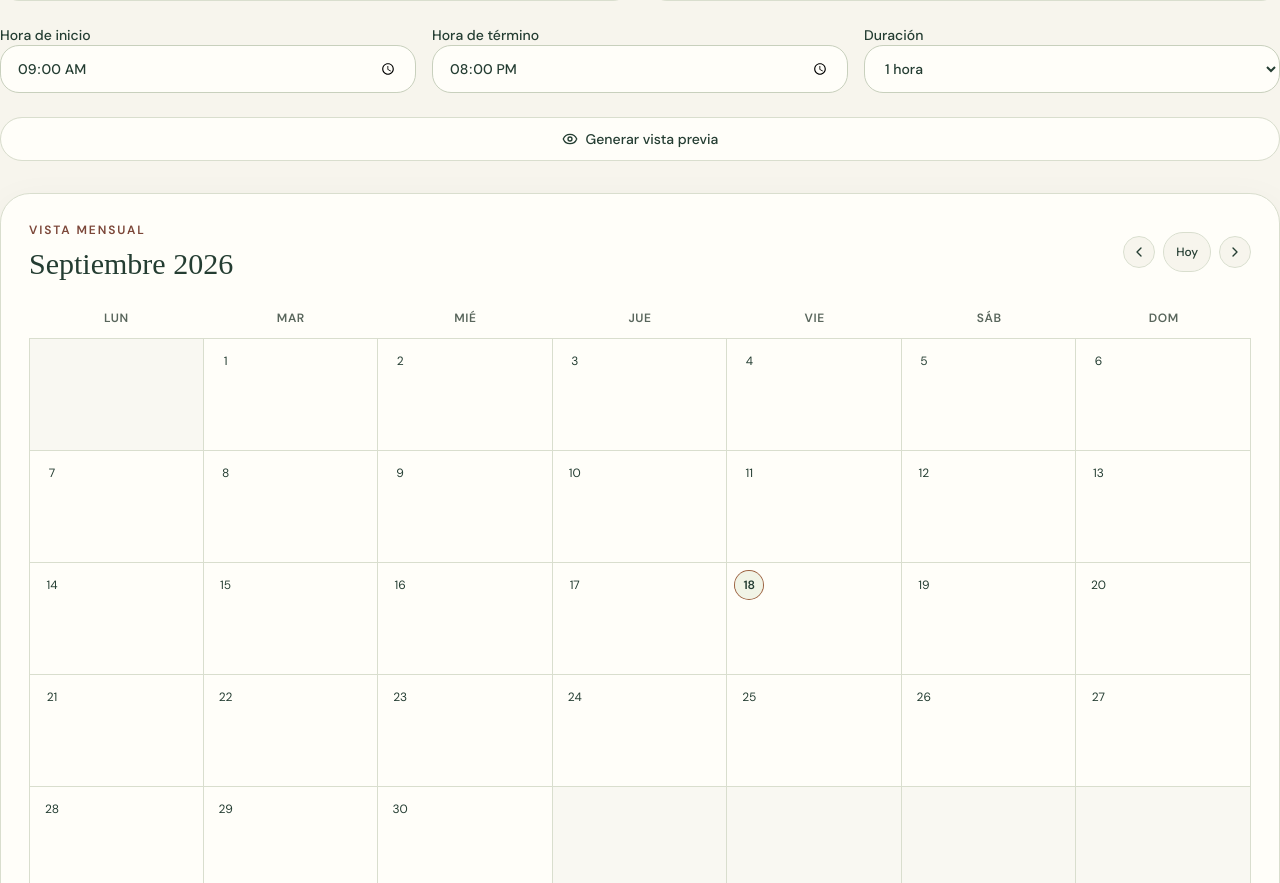
Test: ReservationsPanel › renders the monthly calendar and adds a schedule from a clicked day
(page scrolled)
Check: the heading "Septiembre 2026" is shown, box 29,246 -> 233,282
Click the button named "Agregar horario el Mié 9" at (400, 473), box 386,459 -> 414,487
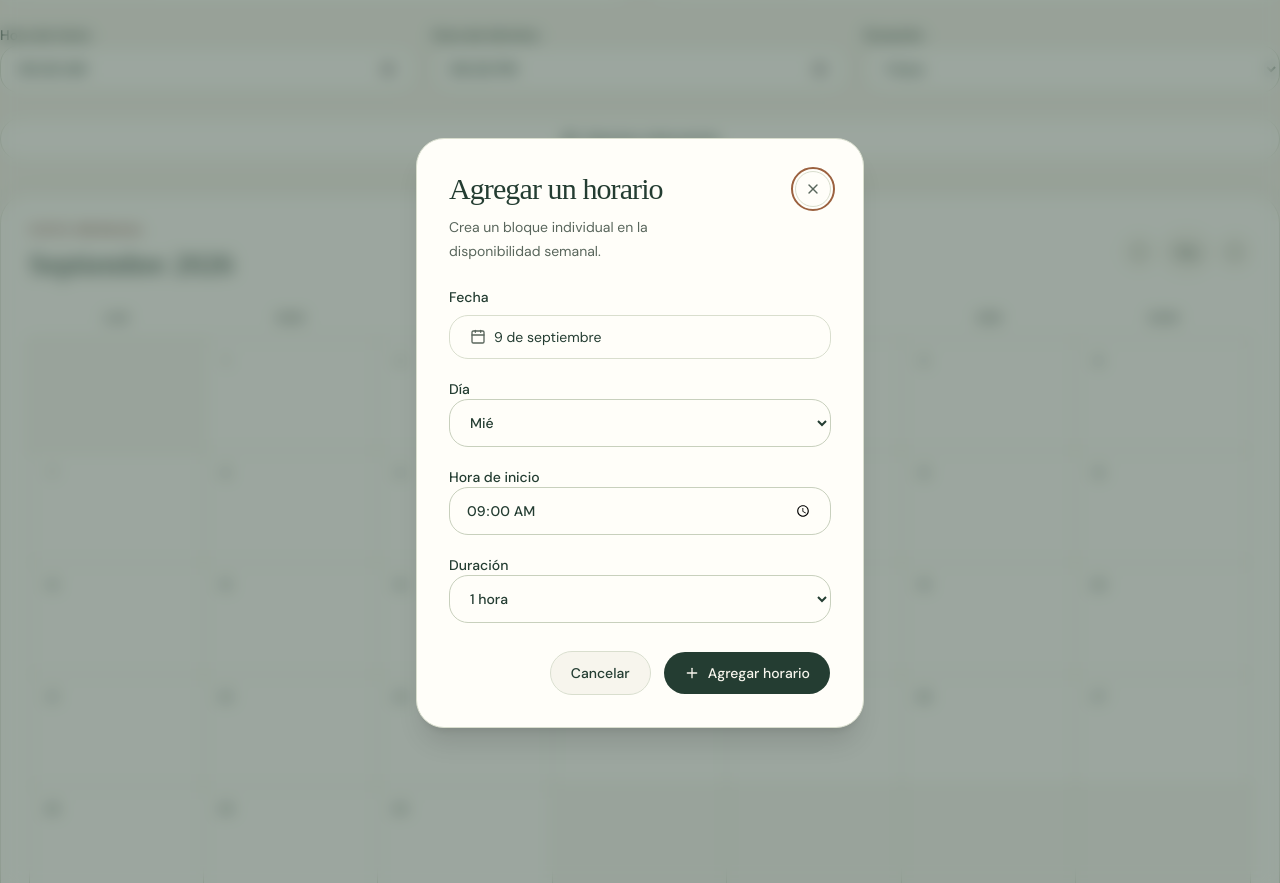
Check: the button with aria-label "Fecha: 9 de septiembre" is shown, box 449,315 -> 831,359
Click the button "Agregar horario" at (747, 673), box 663,651 -> 831,695
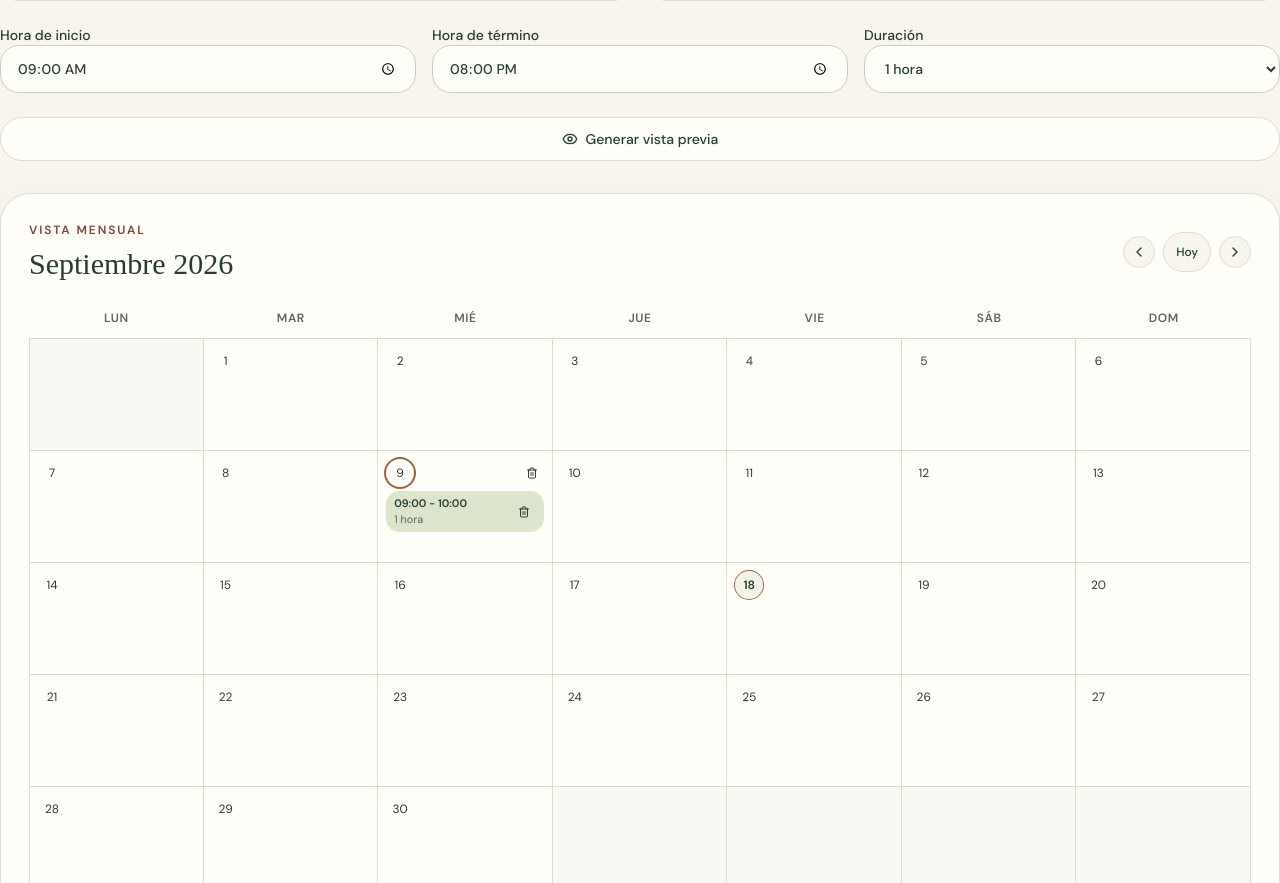
Check: the button named "Eliminar Mié de 09:00 a 10:00" is shown, box 512,500 -> 536,524
